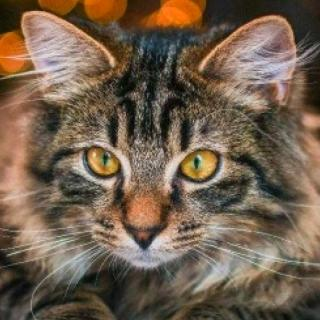cat: (11, 3, 298, 276)
nose: (120, 184, 172, 254)
